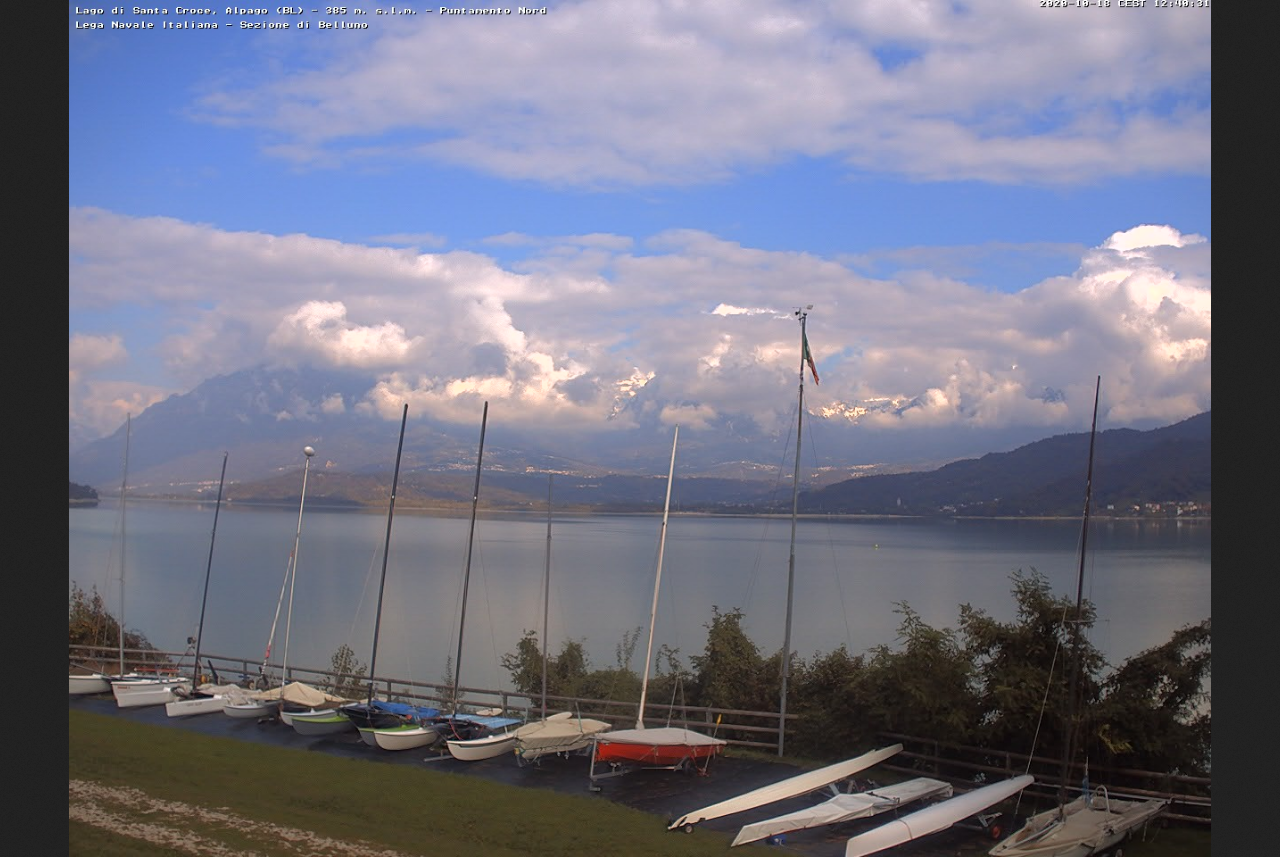no: (799, 333, 821, 380)
